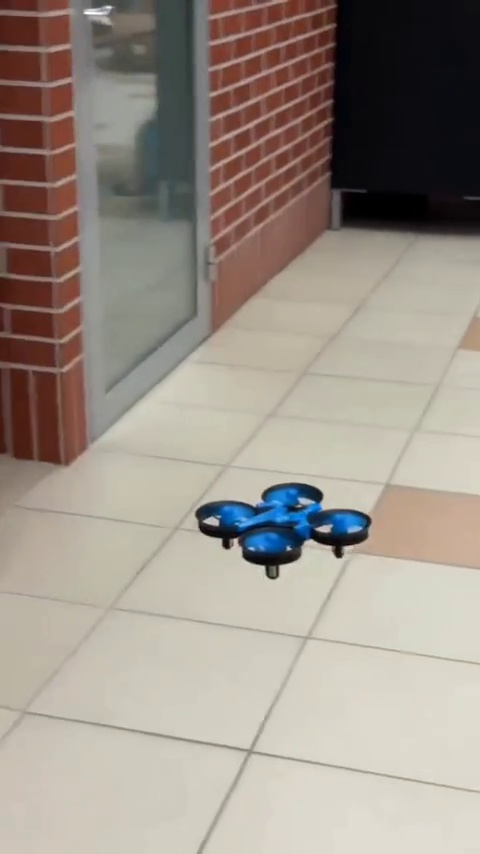drone: (197, 482, 375, 580)
